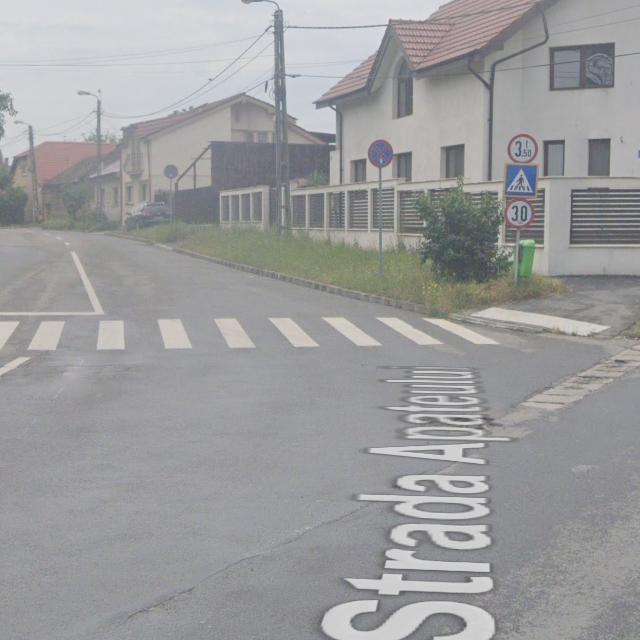forb_speed_over_30: (506, 199, 534, 229)
forb_waiting: (369, 140, 394, 168)
info_crosswalk: (505, 164, 538, 197)
